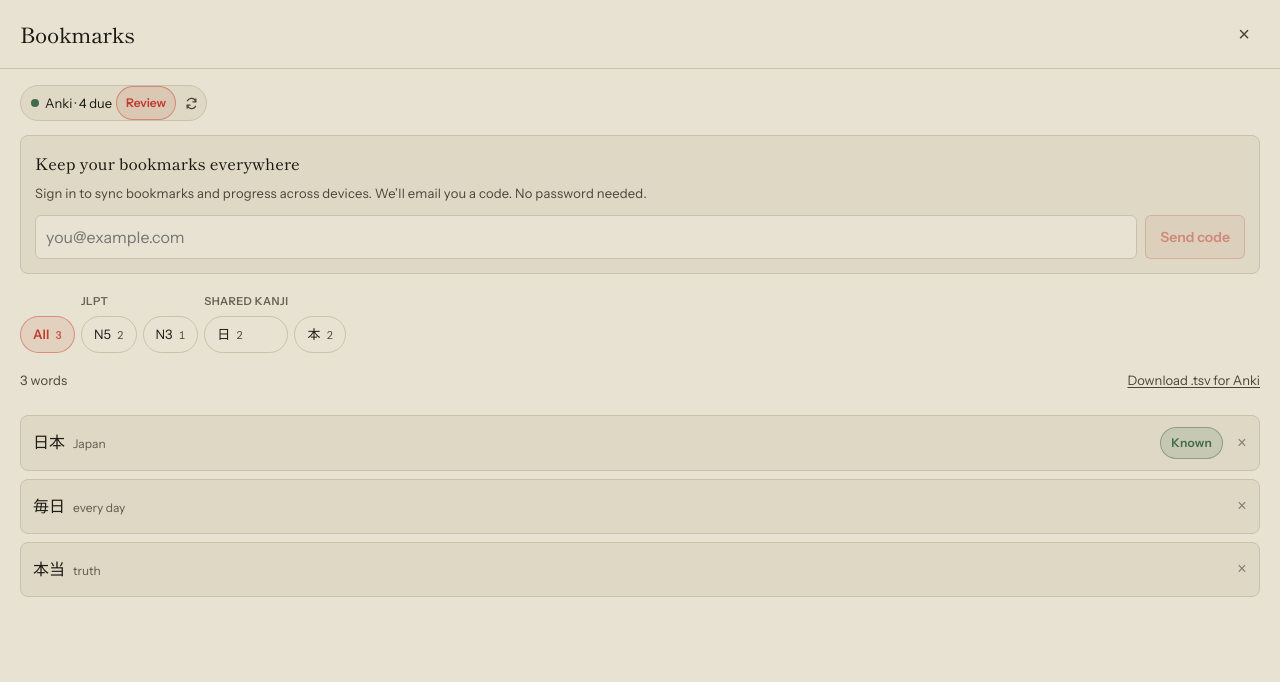
it: BookmarksPanel › folds a connected Anki into a pod that shows status, syncs, and expands
The image size is (1280, 682).
Expected: the heading "Anki connected" is not shown
Click the button named "Sync with Anki".
click(191, 103)  # box [176,86,206,120]
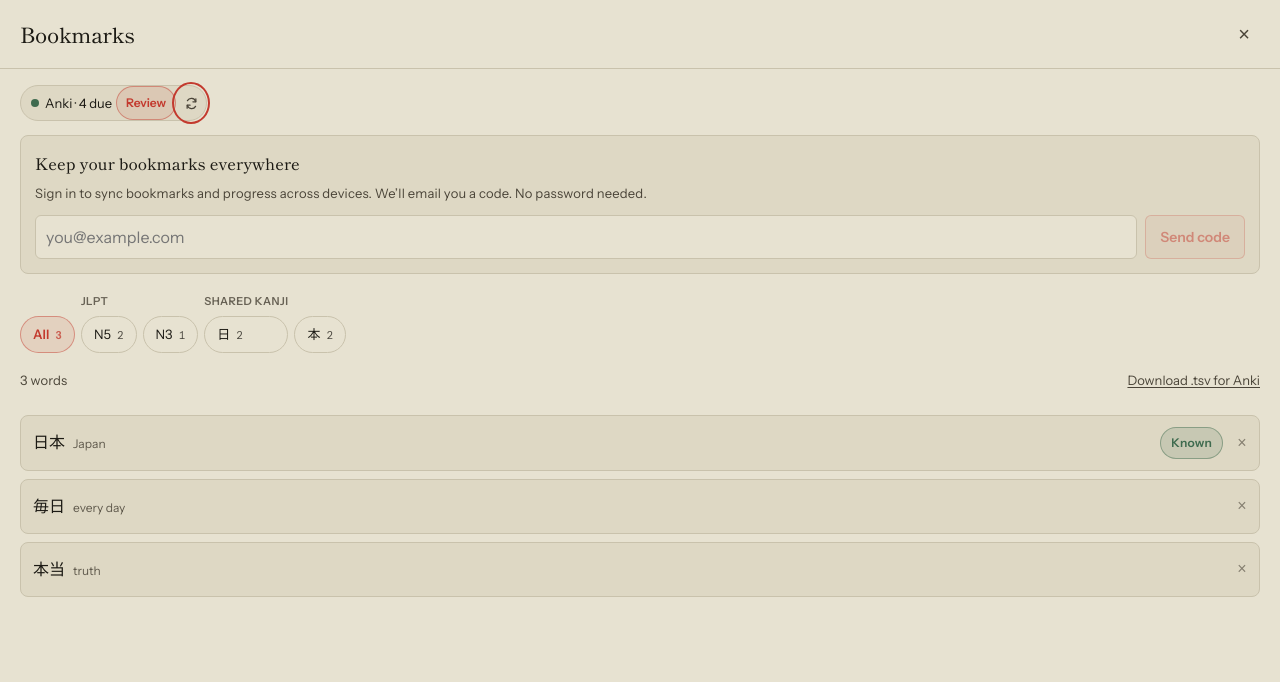
Click the button "Anki · 4 due".
click(68, 103)  # box [21,86,114,120]
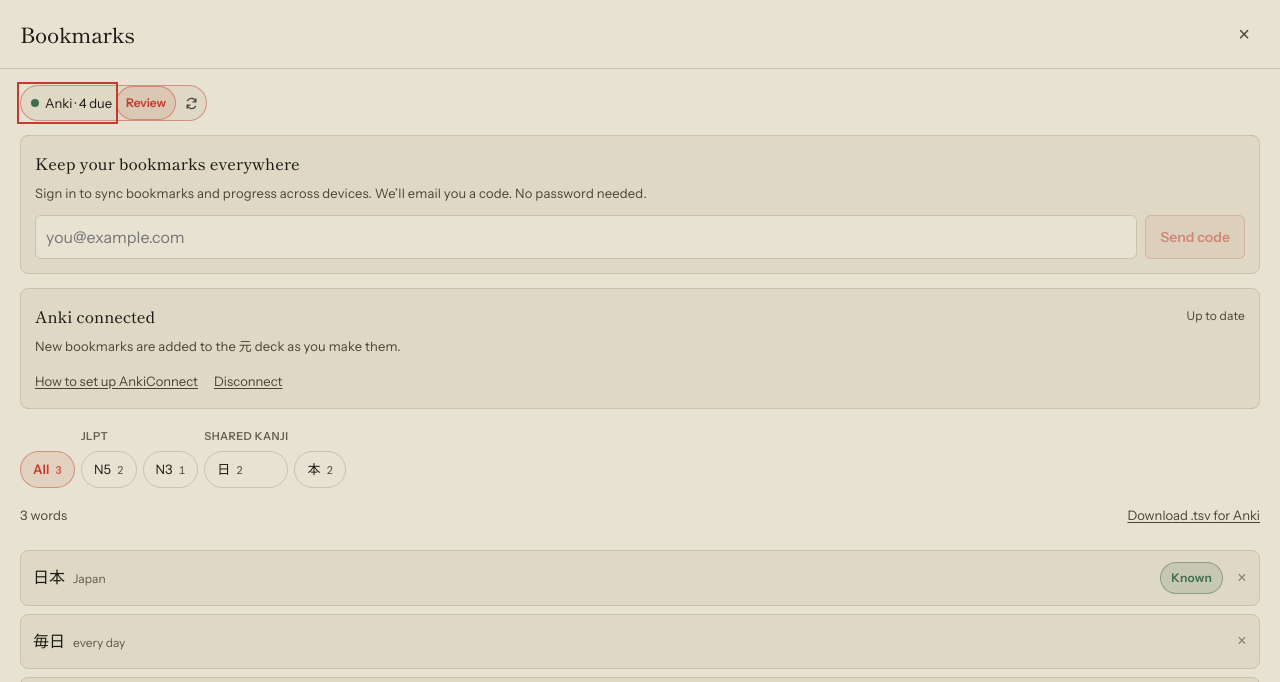
Now the heading "Anki connected" is shown, box [35,303,155,329]
Now the button "Disconnect" is shown, box [214,368,282,394]
